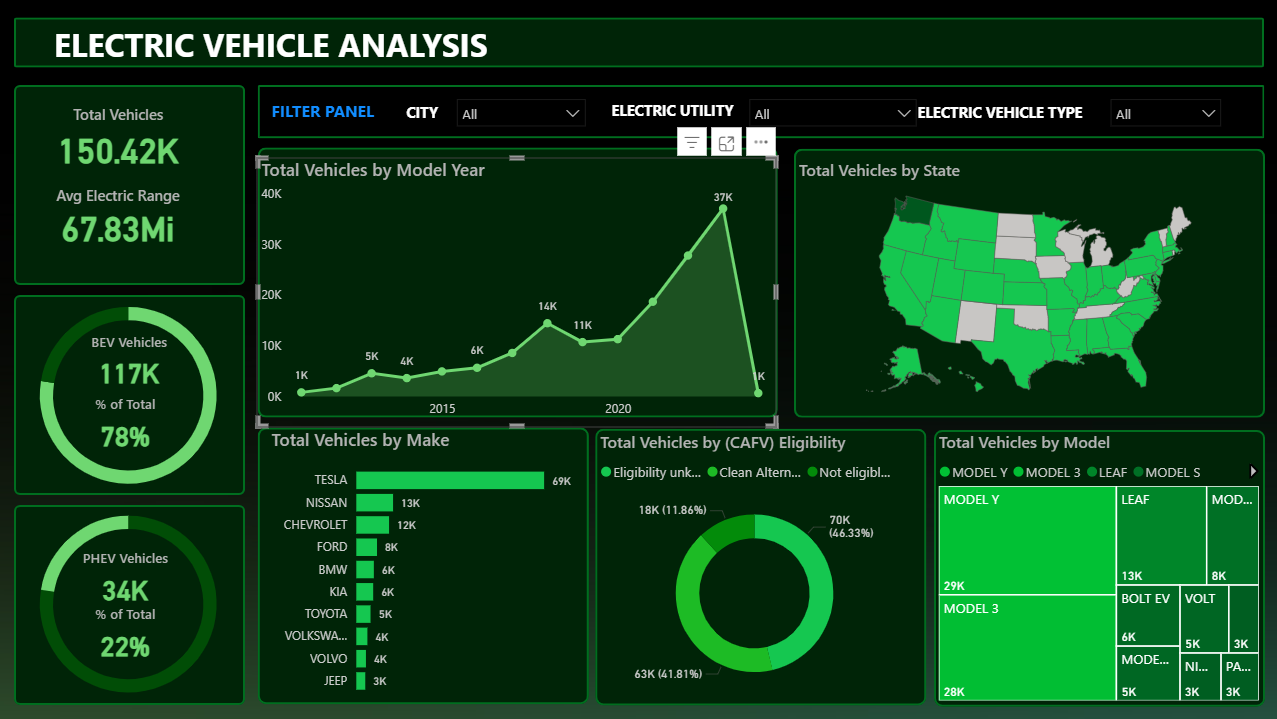

The dashboard page shown, as its layout file describes it:
{"tool":"powerbi","page":{"name":"Page 1","canvas":[1280,720],"ordinal":0},"visuals":[{"type":"shape","box":[258.9,84.4,1006.7,53.3],"z":0},{"type":"shape","title":"Total Vehicles By Model Year","box":[596.7,428.9,331.1,276.7],"z":1000},{"type":"shape","title":"Total Vehicles By Model Year","box":[258.9,427.8,331.1,276.7],"z":2000},{"type":"shape","box":[15.6,17.8,1250,50],"z":3000},{"type":"textbox","box":[50,17.8,468.9,66.7],"z":4000},{"type":"shape","box":[15.6,84.4,231.1,200],"z":5000},{"type":"card","title":"Total Vehicles","fields":{"Values":["Electric_Vehicle_Population_Data.Total Vehicles"]},"box":[42.2,103.3,153.3,68.9],"z":6000},{"type":"card","title":"Avg Electric Range","fields":{"Values":["Electric_Vehicle_Population_Data.Avg Range"]},"box":[34.4,184.4,167.8,63.3],"z":7000},{"type":"shape","box":[15.6,504.4,231.1,200],"z":8000},{"type":"shape","box":[15.6,295.6,231.1,200],"z":9000},{"type":"donutChart","fields":{"Category":["Electric_Vehicle_Population_Data.Electric Vehicle Type"],"Y":["Electric_Vehicle_Population_Data.Total Vehicles"]},"box":[0,280,258.9,231.1],"z":10000},{"type":"card","title":"BEV Vehicles","fields":{"Values":["Electric_Vehicle_Population_Data.Total BEV Vehicles"]},"box":[46.7,332.2,167.8,63.3],"z":11000},{"type":"card","title":"% of Total","fields":{"Values":["Electric_Vehicle_Population_Data.% BEV Vehicles"]},"box":[42.2,395.6,167.8,63.3],"z":12000},{"type":"donutChart","fields":{"Category":["Electric_Vehicle_Population_Data.Electric Vehicle Type"],"Y":["Electric_Vehicle_Population_Data.Total Vehicles"]},"box":[0,488.9,258.9,231.1],"z":13000},{"type":"card","title":"PHEV Vehicles","fields":{"Values":["Electric_Vehicle_Population_Data.Total PHEV Vehicles"]},"box":[42.2,548.9,167.8,63.3],"z":14000},{"type":"card","title":"% of Total","fields":{"Values":["Electric_Vehicle_Population_Data.%PHEV Vehicles"]},"box":[42.2,604.4,167.8,63.3],"z":15000},{"type":"shape","title":"Total Vehicles By Model Year","box":[258.9,147.8,520,270],"z":16000},{"type":"areaChart","fields":{"Category":["Electric_Vehicle_Population_Data.Model Year"],"Y":["Electric_Vehicle_Population_Data.Total Vehicles"]},"box":[257.8,157.8,520,270],"z":17000},{"type":"shape","title":"Total Vehicles By Model Year","box":[795,149,471,269],"z":18000},{"type":"shapeMap","fields":{"Category":["Electric_Vehicle_Population_Data.State"],"Value":["Electric_Vehicle_Population_Data.Total Vehicles"]},"box":[795.1,158.3,469.9,249.1],"z":19000},{"type":"barChart","fields":{"Y":["Electric_Vehicle_Population_Data.Total Vehicles"],"Category":["Electric_Vehicle_Population_Data.Make"]},"box":[267.8,427.8,310,276.7],"z":20000},{"type":"donutChart","title":"Total Vehicles by (CAFV) Eligibility","fields":{"Y":["Electric_Vehicle_Population_Data.Total Vehicles"],"Category":["Electric_Vehicle_Population_Data.Clean Alternative Fuel Vehicle (CAFV) Eligibility"]},"box":[596.7,430,318.9,275.6],"z":21000},{"type":"shape","title":"Total Vehicles By Model Year","box":[935.6,430,331.1,276.7],"z":22000},{"type":"treemap","fields":{"Group":["Electric_Vehicle_Population_Data.Model"],"Values":["Electric_Vehicle_Population_Data.Total Vehicles"]},"box":[935.6,430,330,275.6],"z":23000},{"type":"textbox","box":[267.8,95.6,132.2,42.2],"z":24000},{"type":"textbox","box":[387.8,97.8,71.1,42.2],"z":26000},{"type":"slicer","fields":{"Values":["Electric_Vehicle_Population_Data.City"]},"box":[447.8,88.9,148.9,44.4],"z":26001},{"type":"textbox","box":[596.7,95.6,154.4,42.2],"z":26002},{"type":"slicer","fields":{"Values":["Electric_Vehicle_Population_Data.Electric Utility"]},"box":[740,88.9,187.8,44.4],"z":26003},{"type":"textbox","box":[908.9,97.8,184.4,42.2],"z":26004},{"type":"slicer","fields":{"Values":["Electric_Vehicle_Population_Data.Electric Vehicle Type"]},"box":[1101.1,88.9,131.1,40],"z":26005}]}

Visuals, with their boxes in screenshot pixels (x1, y1, x2, y2), scaled from the page's 1280x720 canvas onto the 1277x719 screenshot:
shape: box=[258, 84, 1263, 138]
"Total Vehicles By Model Year" shape: box=[595, 428, 926, 705]
"Total Vehicles By Model Year" shape: box=[258, 427, 589, 704]
shape: box=[16, 18, 1263, 68]
textbox: box=[50, 18, 518, 84]
shape: box=[16, 84, 246, 284]
"Total Vehicles" card: box=[42, 103, 195, 172]
"Avg Electric Range" card: box=[34, 184, 202, 247]
shape: box=[16, 504, 246, 703]
shape: box=[16, 295, 246, 495]
donutChart - Electric_Vehicle_Population_Data.Electric Vehicle Type x Electric_Vehicle_Population_Data.Total Vehicles: box=[0, 280, 258, 510]
"BEV Vehicles" card: box=[47, 332, 214, 395]
"% of Total" card: box=[42, 395, 210, 458]
donutChart - Electric_Vehicle_Population_Data.Electric Vehicle Type x Electric_Vehicle_Population_Data.Total Vehicles: box=[0, 488, 258, 718]
"PHEV Vehicles" card: box=[42, 548, 210, 611]
"% of Total" card: box=[42, 604, 210, 667]
"Total Vehicles By Model Year" shape: box=[258, 148, 777, 417]
areaChart - Electric_Vehicle_Population_Data.Model Year x Electric_Vehicle_Population_Data.Total Vehicles: box=[257, 158, 776, 427]
"Total Vehicles By Model Year" shape: box=[793, 149, 1263, 417]
shapeMap - Electric_Vehicle_Population_Data.State x Electric_Vehicle_Population_Data.Total Vehicles: box=[793, 158, 1262, 407]
barChart - Electric_Vehicle_Population_Data.Total Vehicles x Electric_Vehicle_Population_Data.Make: box=[267, 427, 576, 704]
"Total Vehicles by (CAFV) Eligibility" donutChart: box=[595, 429, 913, 705]
"Total Vehicles By Model Year" shape: box=[933, 429, 1264, 706]
treemap - Electric_Vehicle_Population_Data.Model x Electric_Vehicle_Population_Data.Total Vehicles: box=[933, 429, 1263, 705]
textbox: box=[267, 95, 399, 138]
textbox: box=[387, 98, 458, 140]
slicer - Electric_Vehicle_Population_Data.City: box=[447, 89, 595, 133]
textbox: box=[595, 95, 749, 138]
slicer - Electric_Vehicle_Population_Data.Electric Utility: box=[738, 89, 926, 133]
textbox: box=[907, 98, 1091, 140]
slicer - Electric_Vehicle_Population_Data.Electric Vehicle Type: box=[1099, 89, 1229, 129]
